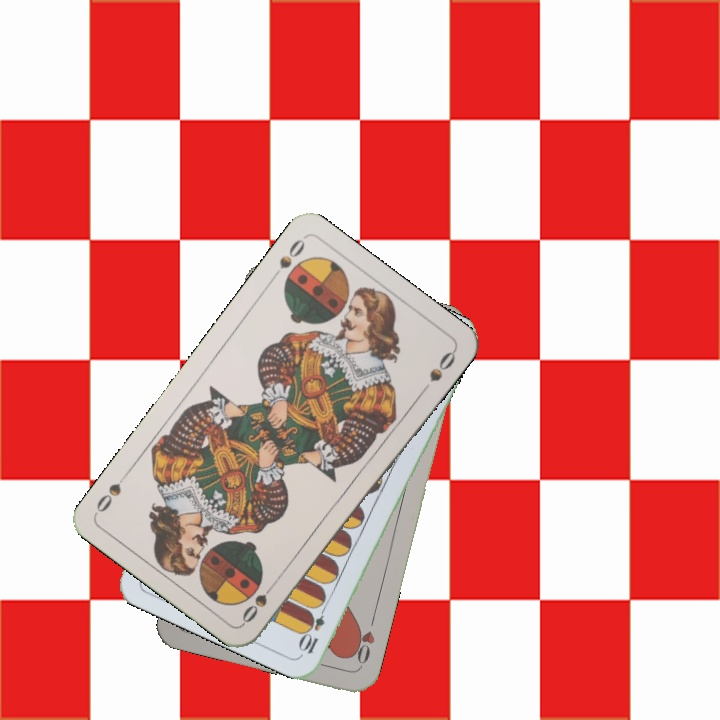E10: (297, 599, 330, 657)
HO: (347, 611, 378, 669)
SO: (238, 576, 281, 626), (267, 235, 308, 284)
